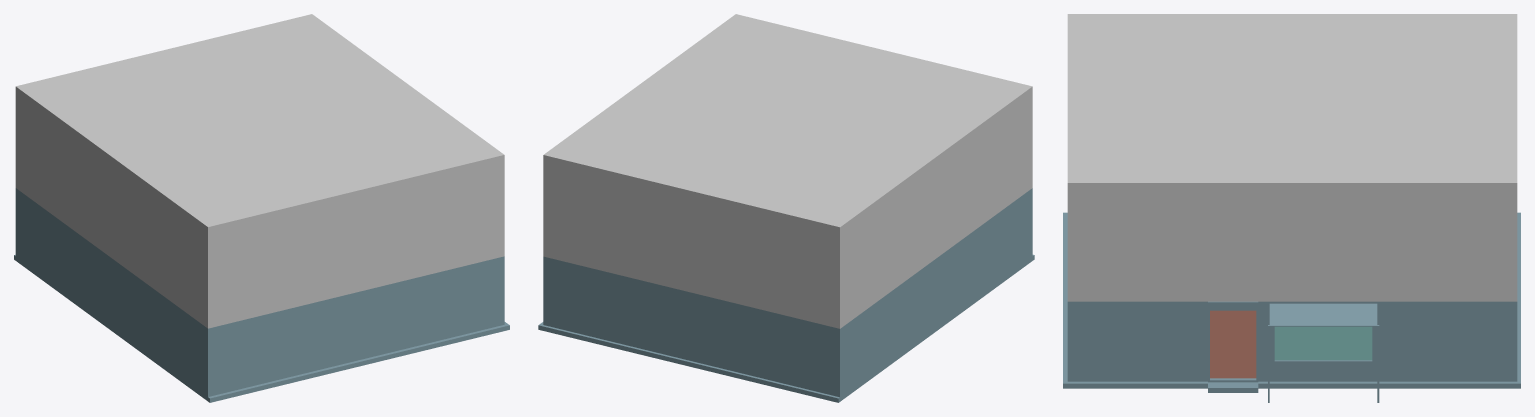
File: Houses7.fbx
3 renders of one model, left to right at view 1: azimuth 30°, elevation 25°; view 2: azimuth 150°, elevation 25°; view 3: azimuth 270°, elevation 25°, orthographic. The views are drawn at different scales.
Visible parts, largest first — view 1: Plane.001; view 2: Plane.001; view 3: Plane.001.
Boxes of the visible parts, x1,y1,x2,y2 form: Plane.001: (14, 14, 509, 402); Plane.001: (538, 14, 1034, 402); Plane.001: (1063, 14, 1520, 402).
Bounding box in the file's own units: 197 × 100 × 204.
